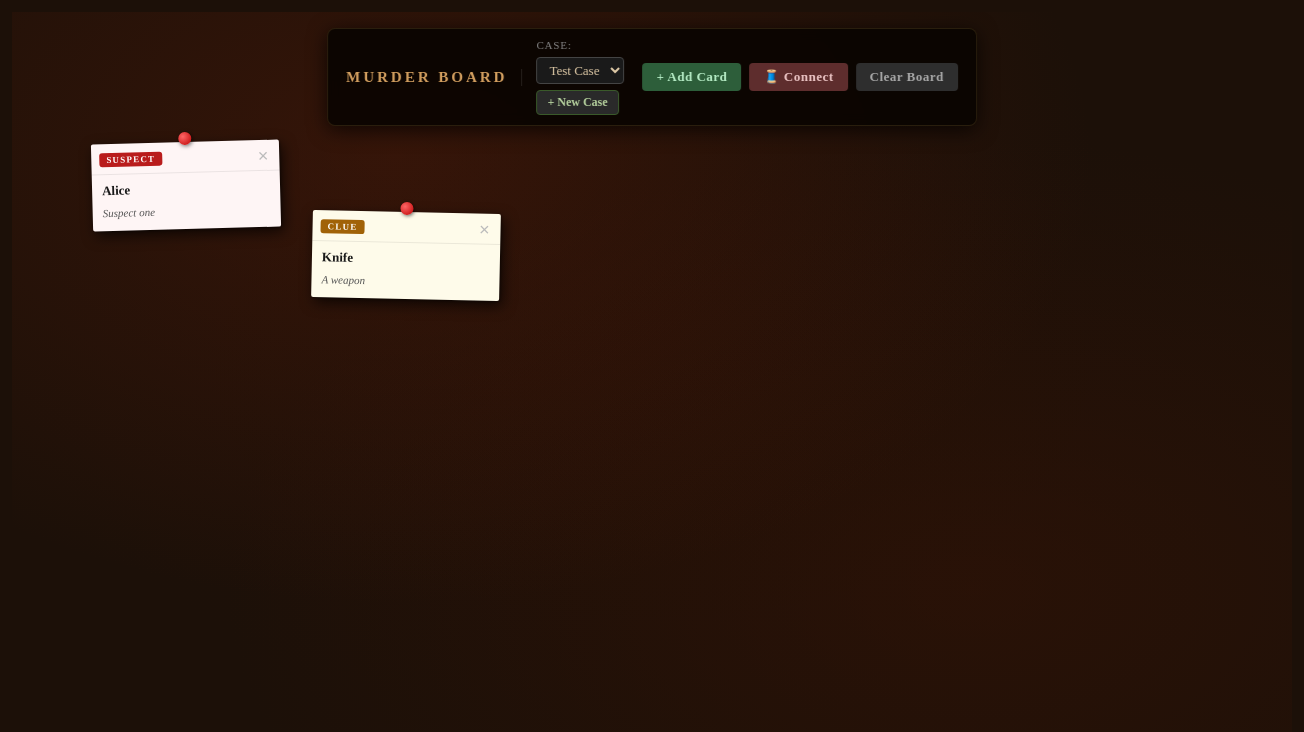
Test: Board › shows connect hint when connect mode is active
What coordinates should you click on to do the following:
click the button "🧵 Connect"
I would click on:
 (799, 77)
Its box is [750,63,848,91].
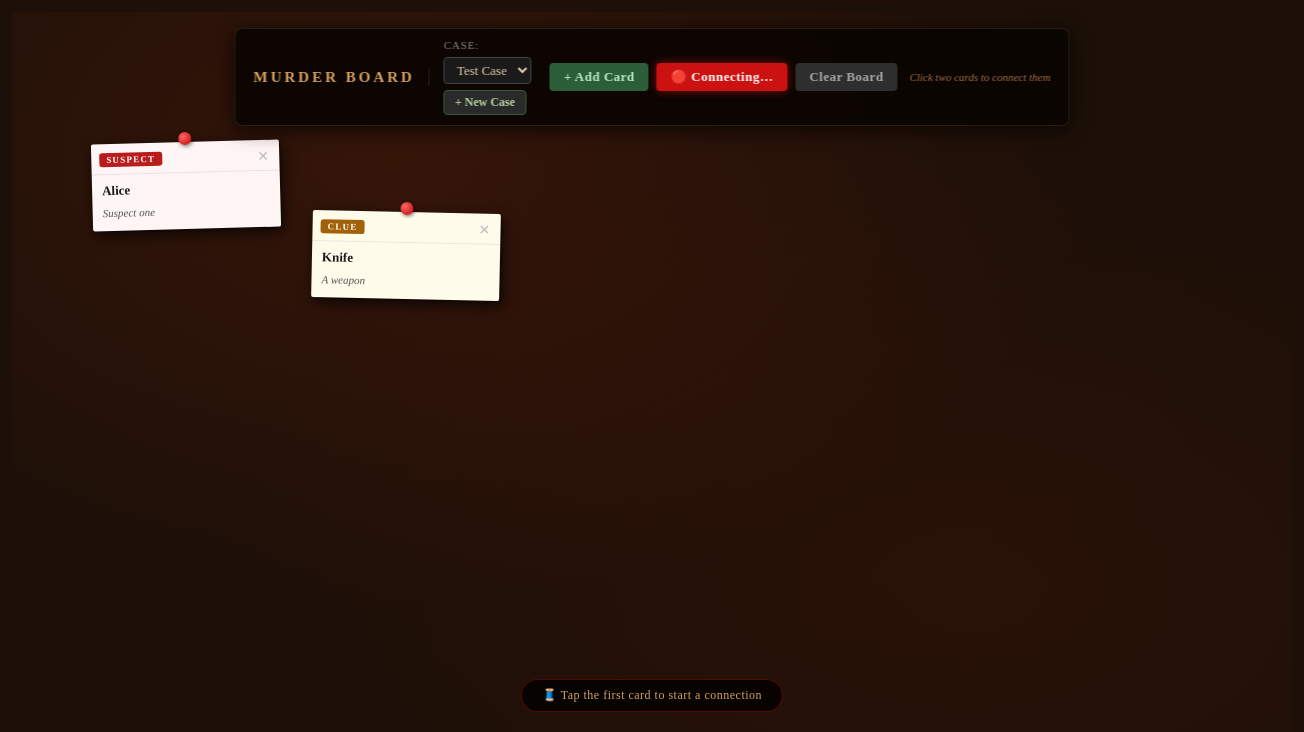
Result: the text "🧵 Tap the first card to start a connection" is shown at [521,679,783,712]
